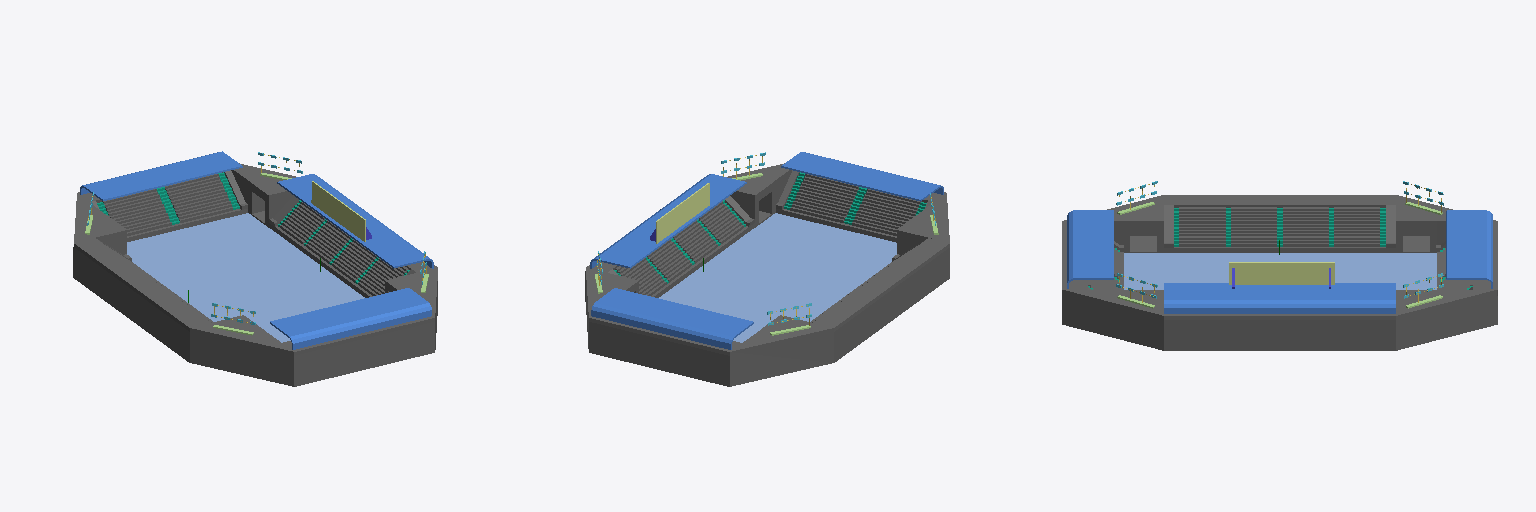
Rendered from stadium2.obj.
3 views of the same model, side by side, from view 1: azimuth 30°, elevation 25°; view 2: azimuth 150°, elevation 25°; view 3: azimuth 270°, elevation 25° (orthographic).
Visible parts, largest first — view 1: Box177, Box166, Box165, Box189, Box169, Box187, Box192, Line028, Line039, Box162, Box168, Box181 (+8 smaller); view 2: Box177, Box166, Box176, Box192, Box168, Box187, Box189, Line029, Line035, Box167, Box169, Box181 (+8 smaller); view 3: Box164, Box177, Box187, Box166, Box162, Box167, Box189, Box192, Box181, Box169, Box168, Line038 (+6 smaller).
Boxes of the visible parts, x1=… form: Box177: x1=127, y1=213, x2=364, y2=342; Box166: x1=73, y1=238, x2=211, y2=362; Box165: x1=283, y1=316, x2=434, y2=386; Box189: x1=270, y1=288, x2=431, y2=349; Box169: x1=190, y1=315, x2=294, y2=386; Box187: x1=277, y1=174, x2=433, y2=268; Box192: x1=80, y1=151, x2=242, y2=200; Line028: x1=165, y1=174, x2=232, y2=222; Line039: x1=102, y1=189, x2=171, y2=235; Box162: x1=231, y1=163, x2=295, y2=227; Box168: x1=74, y1=193, x2=126, y2=254; Box181: x1=311, y1=181, x2=365, y2=241; Box177: x1=659, y1=213, x2=896, y2=342; Box166: x1=812, y1=238, x2=949, y2=362; Box176: x1=589, y1=316, x2=740, y2=386; Box192: x1=591, y1=288, x2=753, y2=349; Box168: x1=730, y1=315, x2=833, y2=386; Box187: x1=590, y1=174, x2=746, y2=268; Box189: x1=781, y1=152, x2=943, y2=201; Line029: x1=790, y1=174, x2=858, y2=222; Line035: x1=852, y1=189, x2=921, y2=235; Box167: x1=727, y1=163, x2=791, y2=227; Box169: x1=897, y1=193, x2=949, y2=254; Box181: x1=656, y1=183, x2=709, y2=243; Box164: x1=1164, y1=314, x2=1395, y2=350; Box177: x1=1124, y1=253, x2=1436, y2=289; Box187: x1=1164, y1=283, x2=1395, y2=313; Box166: x1=1164, y1=195, x2=1395, y2=252; Box162: x1=1396, y1=290, x2=1497, y2=350; Box167: x1=1062, y1=290, x2=1163, y2=350; Box189: x1=1067, y1=210, x2=1113, y2=288; Box192: x1=1446, y1=210, x2=1492, y2=288; Box181: x1=1229, y1=262, x2=1334, y2=284; Box169: x1=1064, y1=195, x2=1163, y2=252; Box168: x1=1396, y1=195, x2=1495, y2=252; Line038: x1=1179, y1=207, x2=1225, y2=246.
Size of the model in its own units: 268 by 70.45 by 406.